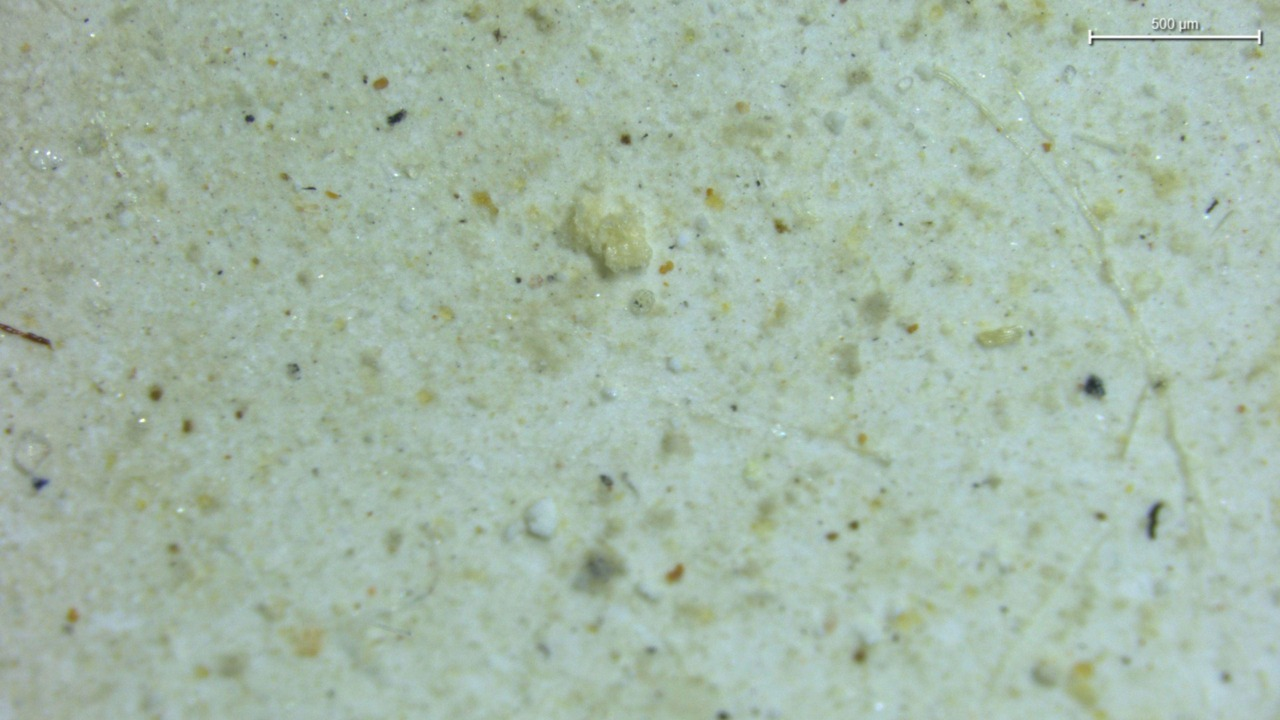microplastic_fragment: (557, 193, 651, 274), (525, 497, 559, 539)
